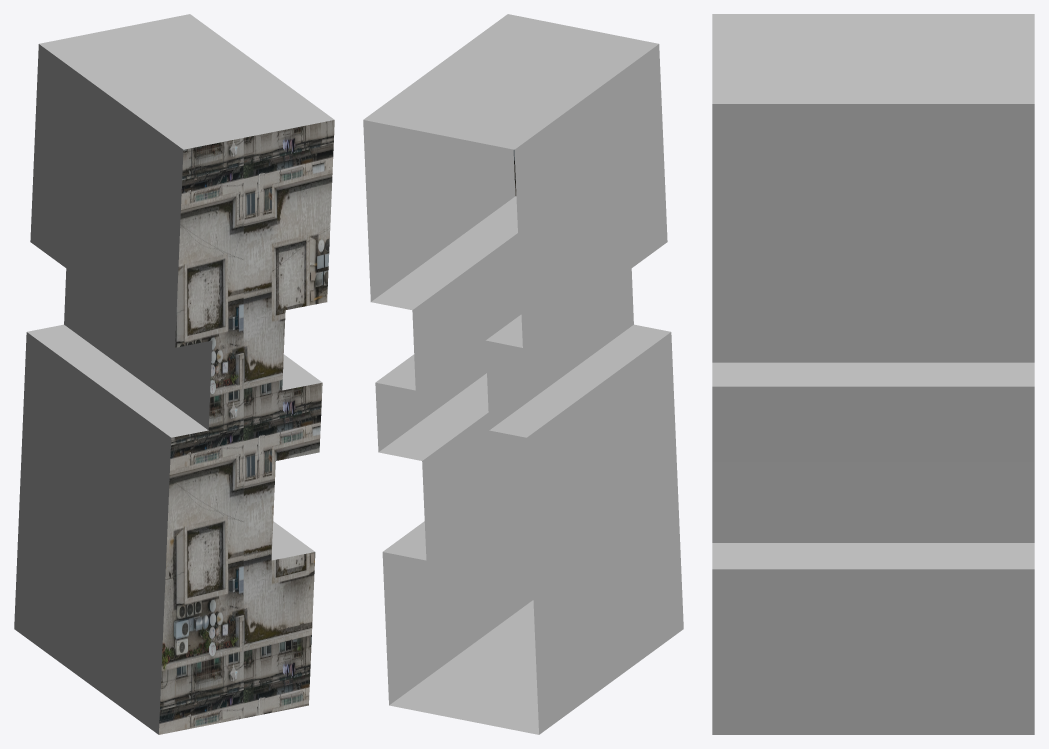
The model's file is geospecific_1272.obj.
3 renders of one model, left to right at view 1: azimuth 30°, elevation 25°; view 2: azimuth 150°, elevation 25°; view 3: azimuth 270°, elevation 25°, orthographic. The views are drawn at different scales.
Parts seen in each view (by area): view 1: Building; view 2: Building; view 3: Building.
Part boxes in pixels (box(x1,y1,x2,y2)): Building: box(14, 14, 334, 734); Building: box(363, 14, 683, 734); Building: box(712, 14, 1034, 734).
Size of the model in its own units: 8.43 by 26.83 by 12.
